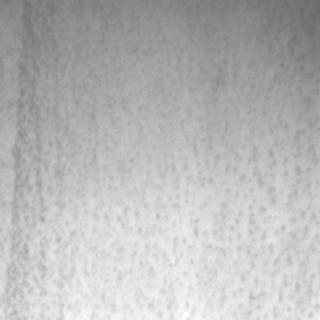pitted_surface: (40, 90, 312, 318), (8, 0, 52, 316)
